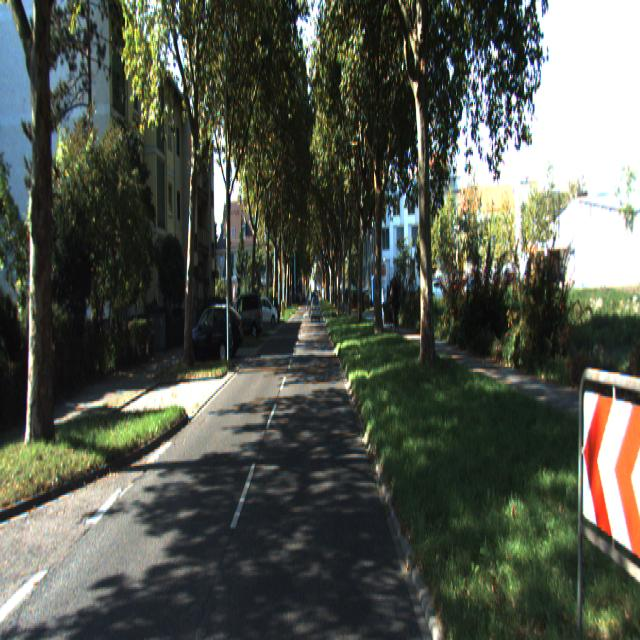Car: (185, 303, 236, 367), (226, 288, 264, 342), (256, 296, 278, 326)
DontCare: (428, 267, 479, 309), (386, 276, 401, 330), (310, 290, 320, 320), (294, 283, 304, 306)
